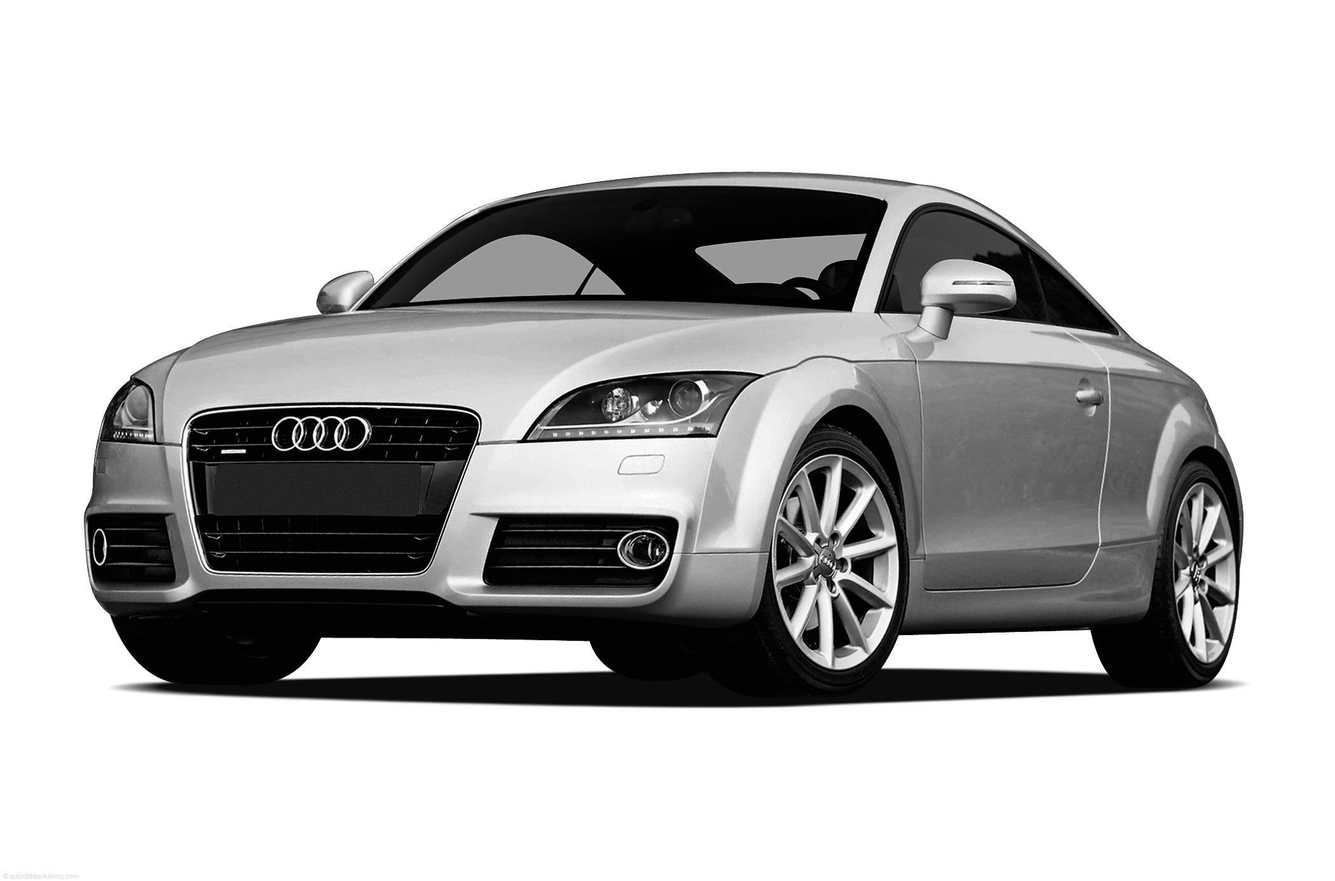car: (88, 170, 1242, 692)
